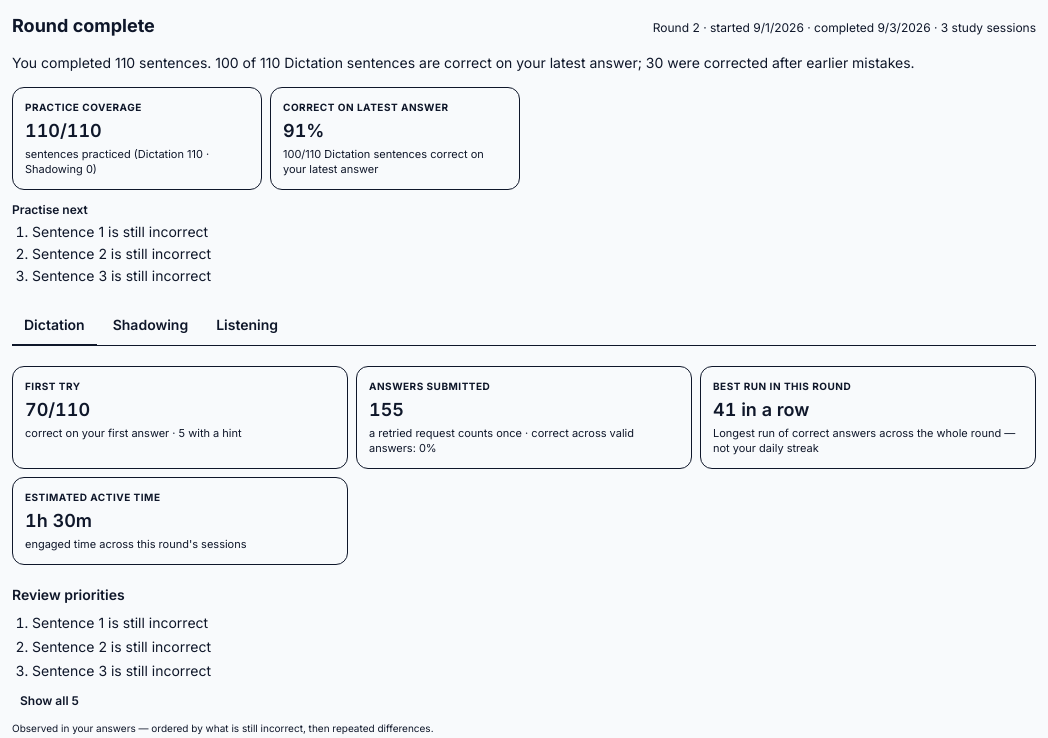
Test: RoundReportPanel — deterministic Dictation analysis (Learning Reports P1) › review priorities: still incorrect first, then repeated differences; shown 3 at a time
Expected: the list item "Sentence 1 is still incorrect" below "Review priorities" is shown, top-left (32, 614), bottom-right (208, 631)
Click the button "Show all 5" at (49, 701), box top-left (12, 689), bottom-right (87, 713)
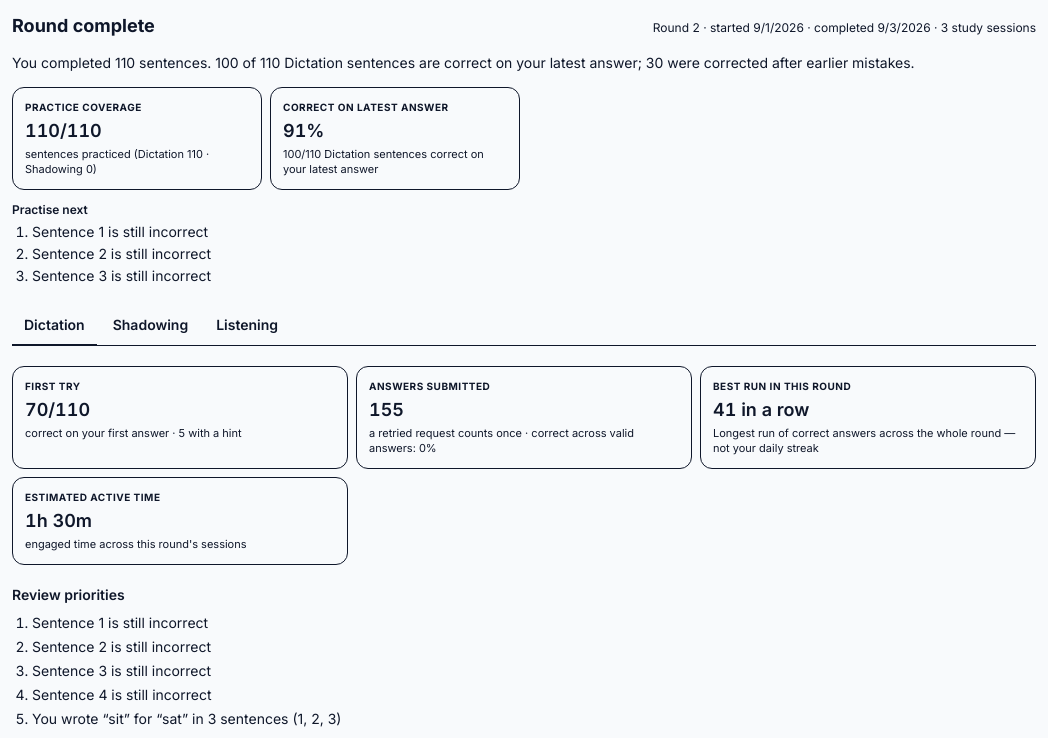
Result: the list item "You wrote “sit” for “sat” in 3 sentences (1, 2, 3)" is shown at top-left (32, 710), bottom-right (341, 727)
